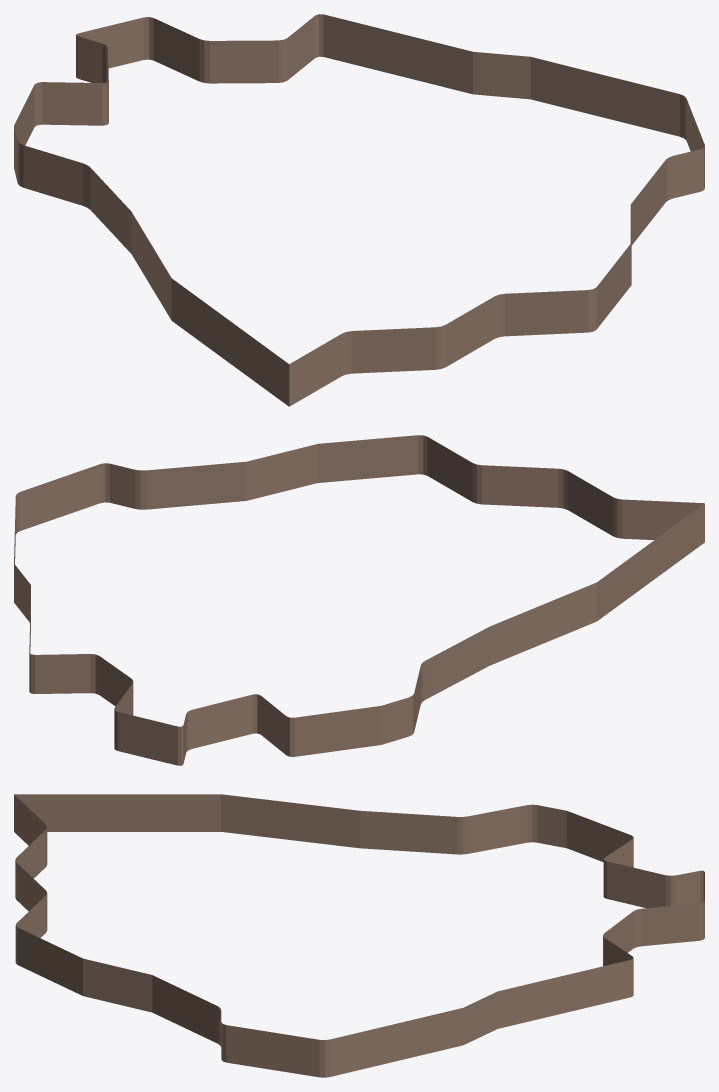
Rendered from ai_rabbit_panel.glb.
3 views of the same model, one above another, from view 1: azimuth 30°, elevation 25°; view 2: azimuth 150°, elevation 25°; view 3: azimuth 270°, elevation 25° (orthographic). The views are drawn at different scales.
Parts seen in each view (by area): view 1: ai_rabbit_panel; view 2: ai_rabbit_panel; view 3: ai_rabbit_panel.
Part boxes in pixels (bbox=[...]): ai_rabbit_panel: bbox=[14, 14, 704, 406]; ai_rabbit_panel: bbox=[14, 435, 704, 765]; ai_rabbit_panel: bbox=[14, 794, 704, 1077].
Size of the model in its own units: 0.4209 by 0.03 by 0.5.
